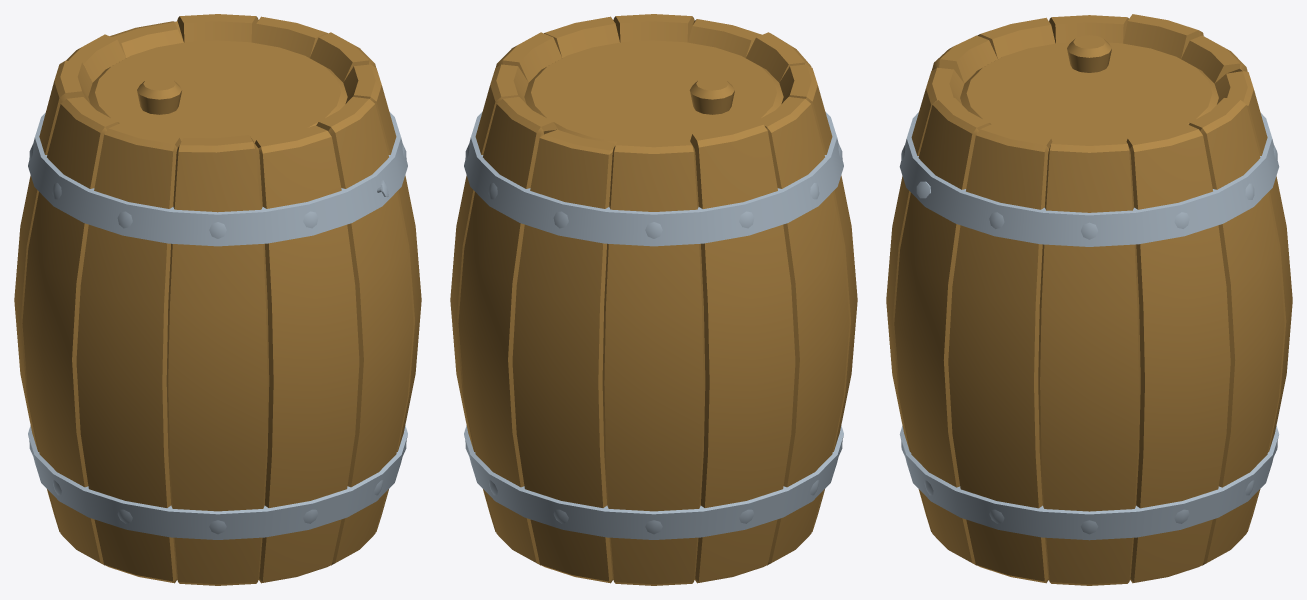
Rendered from barrel.glb.
The picture shows the model from 3 angles, left to right: view 1: azimuth 30°, elevation 25°; view 2: azimuth 150°, elevation 25°; view 3: azimuth 270°, elevation 25°; orthographic projection.
Visible parts, largest first — view 1: barrel; view 2: barrel; view 3: barrel.
Part boxes in pixels (x1,y1,x2,y2): barrel: [14, 14, 421, 585]; barrel: [450, 14, 857, 585]; barrel: [886, 14, 1292, 585].
Size of the model in its own units: 2.51 by 3.05 by 2.51.
